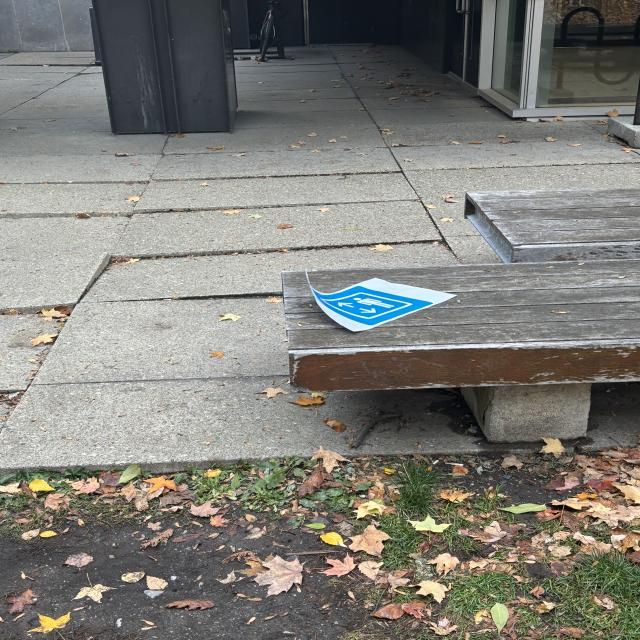elevator: (309, 286, 432, 327)
